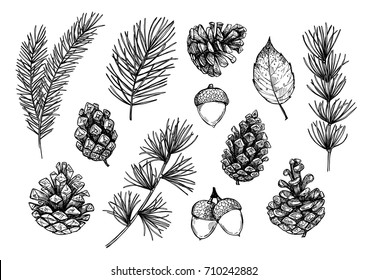Pc: (265, 155, 330, 240), (23, 165, 97, 238), (219, 106, 272, 187), (179, 14, 247, 77), (72, 104, 122, 169)
